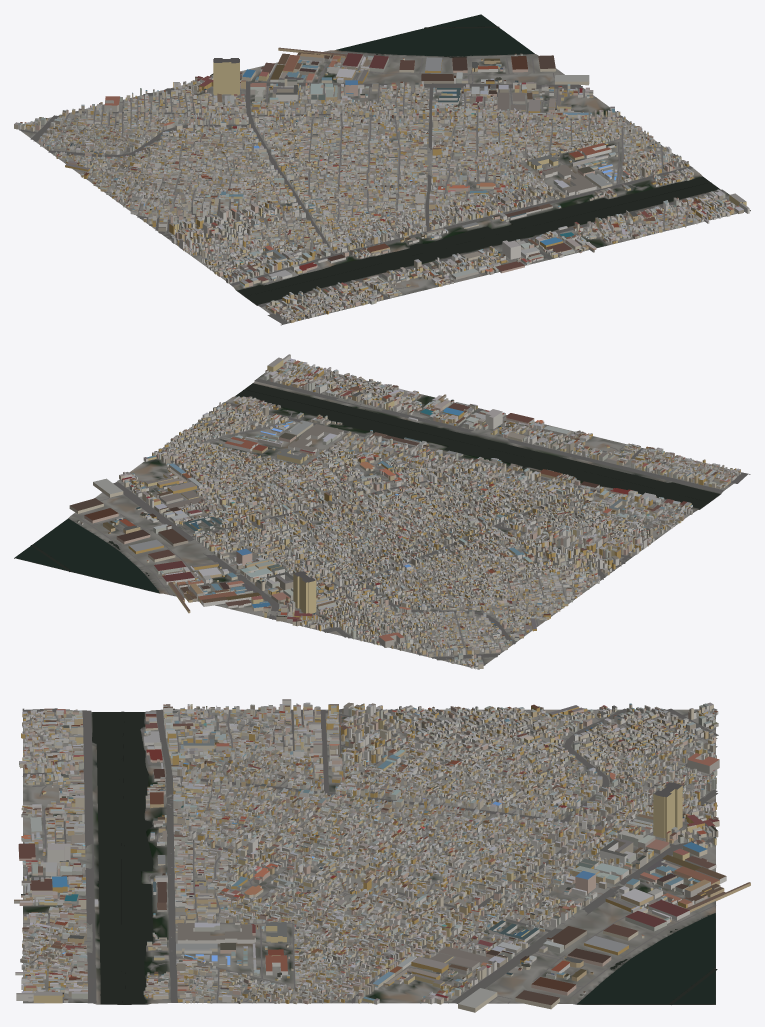
3 views of the same model, one above another, from view 1: azimuth 30°, elevation 25°; view 2: azimuth 150°, elevation 25°; view 3: azimuth 270°, elevation 25° (orthographic). The views are drawn at different scales.
Visible parts, largest first — view 1: buildings, ground, water, roads; view 2: buildings, ground, water, roads; view 3: buildings, ground, water, roads.
Part boxes in pixels (<box>): buildings: <box>14,47,749,322</box>; ground: <box>19,26,750,323</box>; water: <box>237,14,719,305</box>; roads: <box>19,51,729,325</box>; buildings: <box>69,354,740,669</box>; ground: <box>14,365,742,669</box>; water: <box>15,383,720,592</box>; roads: <box>73,370,750,667</box>; buildings: <box>14,699,750,1012</box>; ground: <box>23,709,715,1004</box>; water: <box>92,711,717,1004</box>; roads: <box>22,708,718,1003</box>.
Bounding box in the file's own units: 1454 × 101 × 1489.
